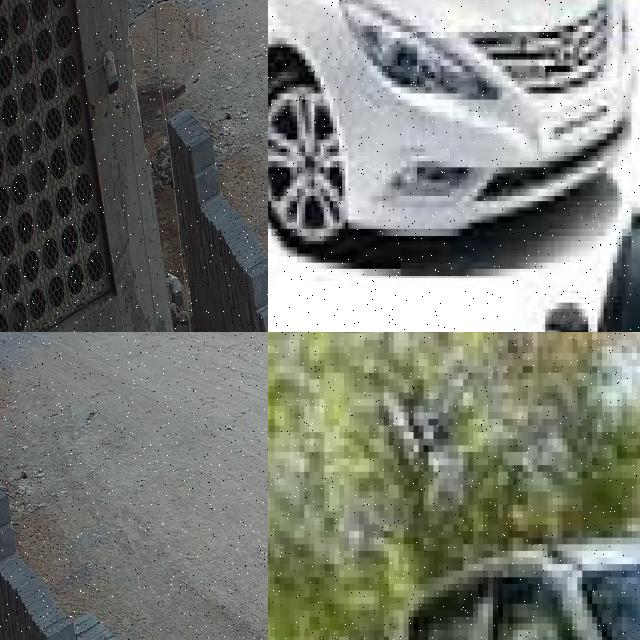car: (268, 0, 639, 252), (354, 518, 640, 640), (530, 179, 640, 332)
